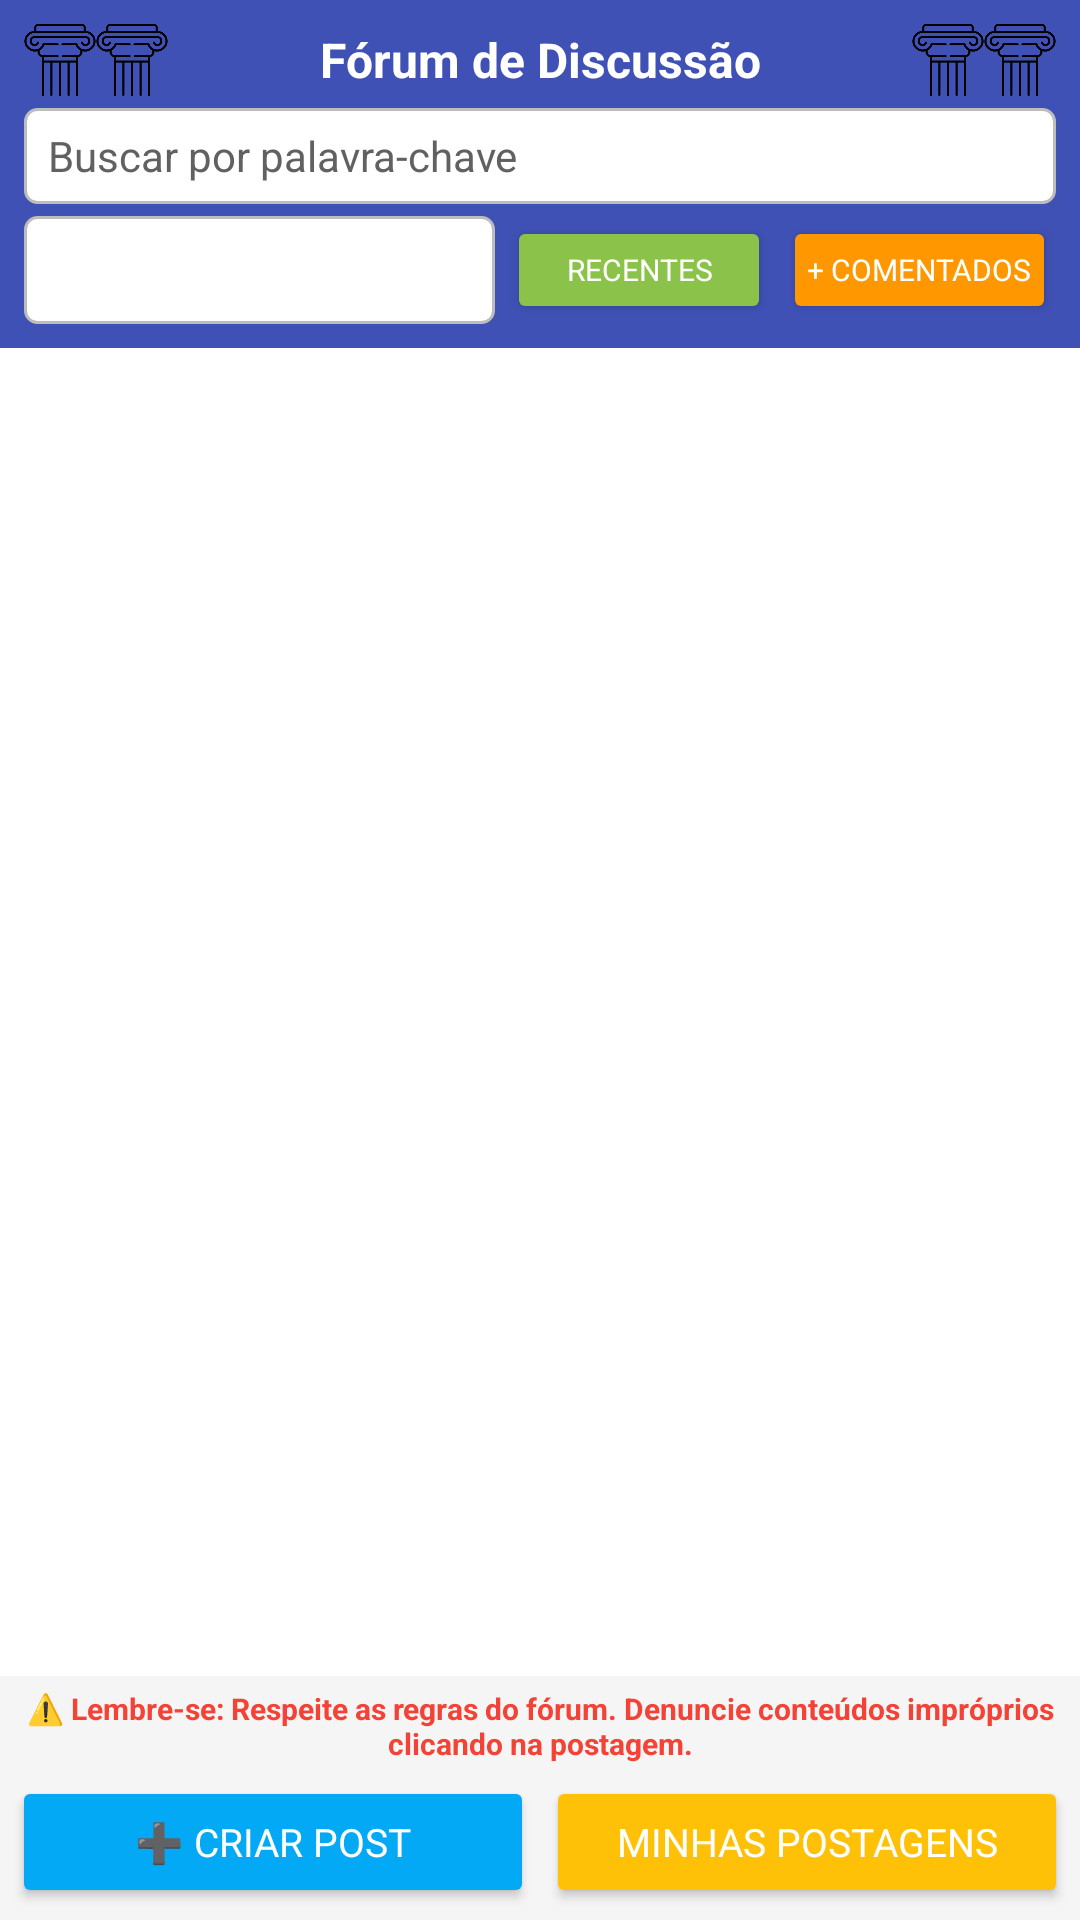

Named icons in this screenshot (1080px x 1920px) and their bounding boxes, detection(x1, y1, x2, y2):
Ícone do Fórum: detection(24, 24, 96, 96), detection(96, 24, 168, 96), detection(912, 24, 984, 96), detection(984, 24, 1056, 96)
